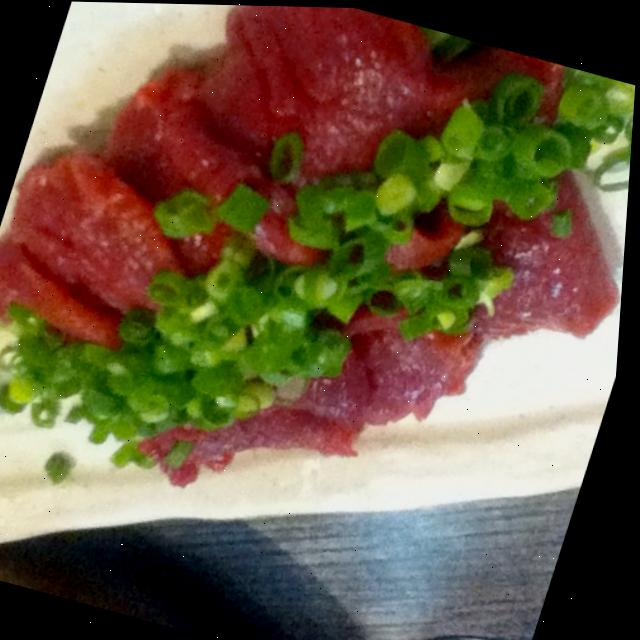刺身生食: (0, 0, 640, 616)
